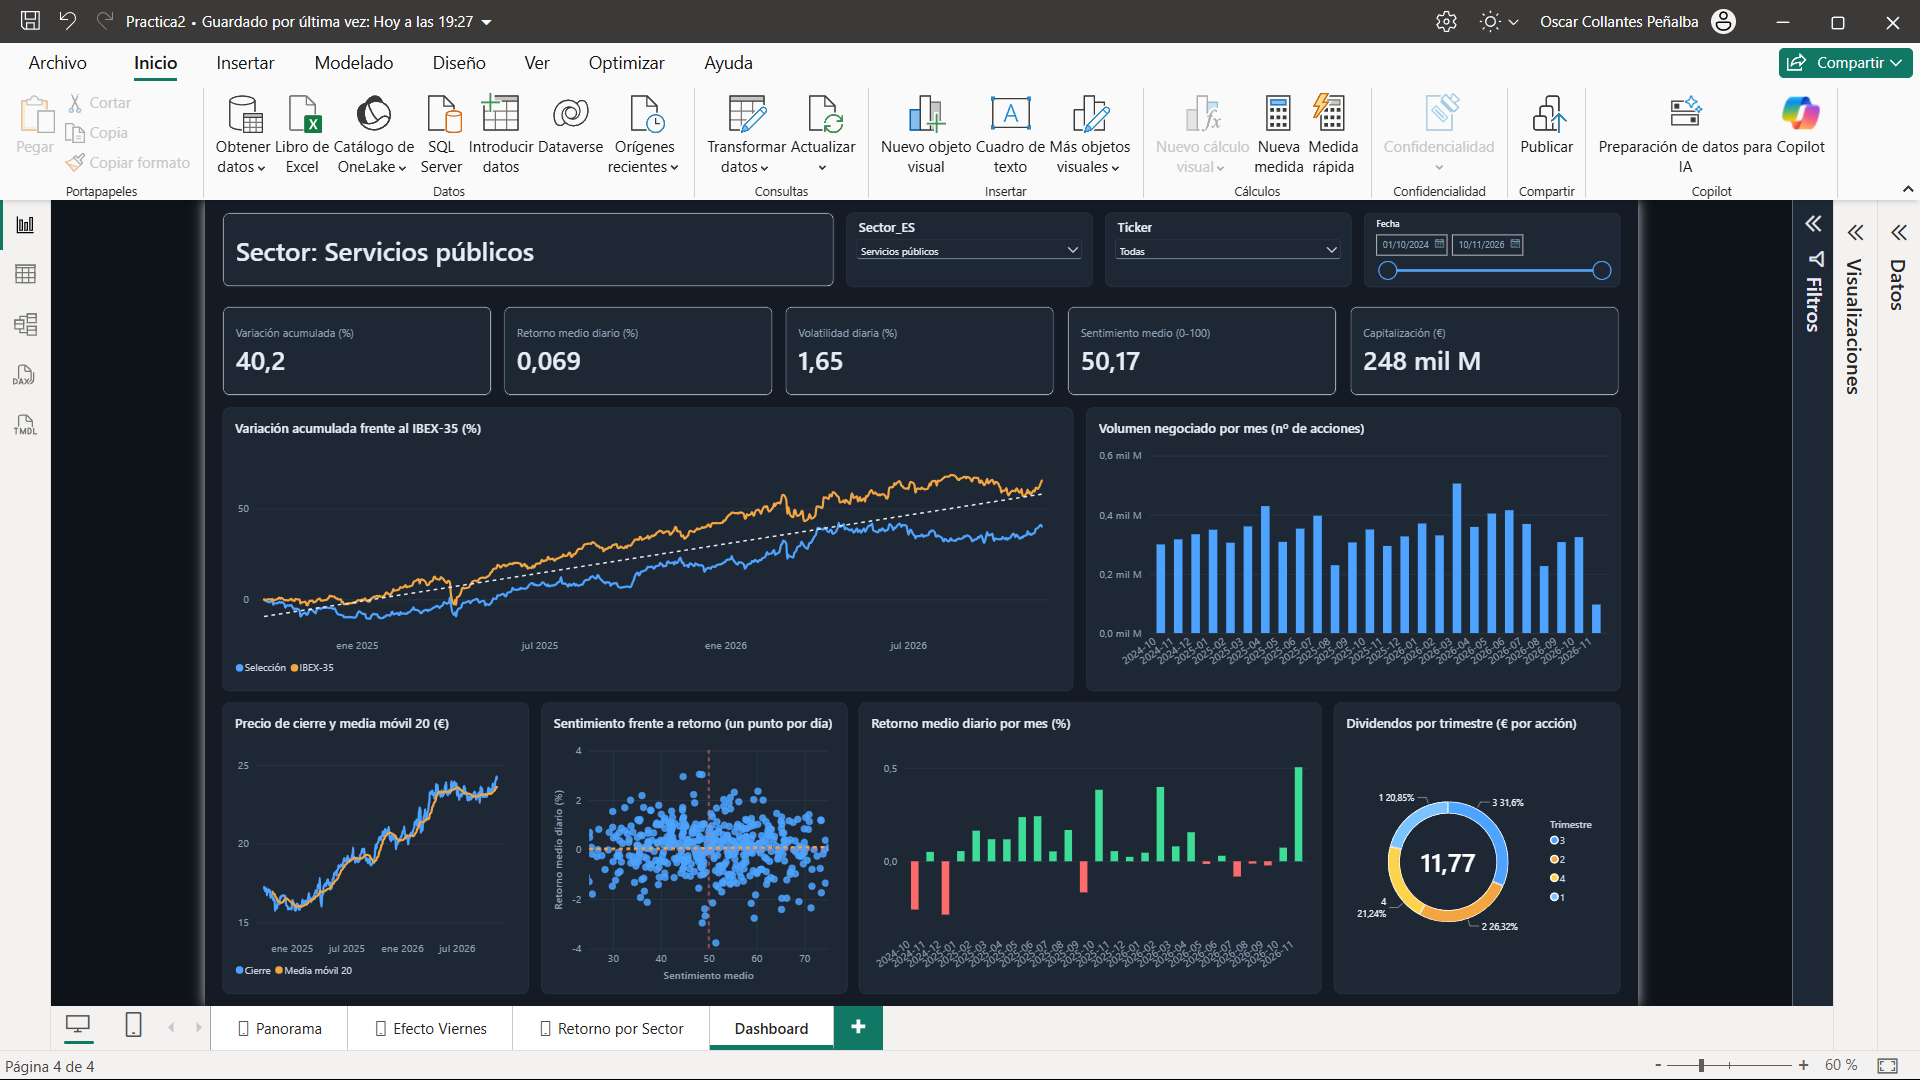

What the dashboard file says about the page in this screenshot:
{"tool":"powerbi","page":{"name":"Dashboard","canvas":[1920,1080],"ordinal":3},"visuals":[{"type":"slicer","fields":{"Values":["Empresa.Sector_ES"]},"box":[753.5,31.4,280.8,68],"z":0},{"type":"slicer","fields":{"Values":["Empresa.Ticker"]},"box":[1055.2,26.2,280.8,80.2],"z":1000},{"type":"slicer","fields":{"Values":["Fecha.Fecha"]},"box":[1360.5,19.2,280.8,95.9],"z":2000},{"type":"cardVisual","fields":{"Data":["Hechos.Variacion Acumulada"]},"box":[36.6,115.1,218,174.4],"z":3000},{"type":"cardVisual","fields":{"Data":["Hechos.Retorno Medio Diario"]},"box":[375,115.1,218,174.4],"z":4000},{"type":"cardVisual","fields":{"Data":["Hechos.Volatilidad Diaria"]},"box":[741.3,115.1,218,174.4],"z":5000},{"type":"cardVisual","fields":{"Data":["Hechos.Sentimiento Medio"]},"box":[1088.4,115.1,218,174.4],"z":6000},{"type":"cardVisual","fields":{"Data":["Hechos.Capitalizacion Total"]},"box":[1447.7,115.1,218,174.4],"z":7000},{"type":"lineChart","fields":{"Category":["Fecha.Fecha"],"Y":["Hechos.Var Acum Seleccion","Hechos.Var Acum IBEX"]},"box":[43.6,314,1058.7,376.7],"z":8000},{"type":"clusteredColumnChart","fields":{"Category":["Fecha.AnioMes"],"Y":["Sum(Hechos.Volume)"]},"box":[1133.7,314,736,376.7],"z":9000},{"type":"lineChart","fields":{"Category":["Fecha.Fecha"],"Y":["Avg(Hechos.Close)","Avg(Hechos.Media_Movil_20)"]},"box":[66.3,711.6,395.9,322.7],"z":10000},{"type":"scatterChart","fields":{"Category":["Fecha.Fecha"],"X":["Hechos.Sentimiento Medio"],"Y":["Hechos.Retorno Medio Diario"]},"box":[462.2,711.6,444.8,322.7],"z":11000},{"type":"clusteredColumnChart","fields":{"Category":["Fecha.AnioMes"],"Y":["Hechos.Retorno Medio Diario"]},"box":[907,711.6,610.5,322.7],"z":12000},{"type":"donutChart","fields":{"Category":["Fecha.Trimestre"],"Y":["Sum(Hechos.Dividends)"]},"box":[1517.4,711.6,385.5,322.7],"z":13000},{"type":"cardVisual","fields":{"Data":["Hechos.Titulo Dashboard"]},"box":[66.3,19.2,556.4,75],"z":13001}]}

Visuals, with their boxes on the page's 1920x1080 design canvas (x1, y1, x2, y2). These are canvas units, not pixel positions in the 1920x1080 screenshot, which may show the page scaled, cropped or inside an application window:
slicer - Empresa.Sector_ES: 754:31:1034:99
slicer - Empresa.Ticker: 1055:26:1336:106
slicer - Fecha.Fecha: 1360:19:1641:115
cardVisual - Hechos.Variacion Acumulada: 37:115:255:290
cardVisual - Hechos.Retorno Medio Diario: 375:115:593:290
cardVisual - Hechos.Volatilidad Diaria: 741:115:959:290
cardVisual - Hechos.Sentimiento Medio: 1088:115:1306:290
cardVisual - Hechos.Capitalizacion Total: 1448:115:1666:290
lineChart - Fecha.Fecha x Hechos.Var Acum Seleccion: 44:314:1102:691
clusteredColumnChart - Fecha.AnioMes x Sum(Hechos.Volume): 1134:314:1870:691
lineChart - Fecha.Fecha x Avg(Hechos.Close): 66:712:462:1034
scatterChart - Fecha.Fecha x Hechos.Sentimiento Medio: 462:712:907:1034
clusteredColumnChart - Fecha.AnioMes x Hechos.Retorno Medio Diario: 907:712:1518:1034
donutChart - Fecha.Trimestre x Sum(Hechos.Dividends): 1517:712:1903:1034
cardVisual - Hechos.Titulo Dashboard: 66:19:623:94
